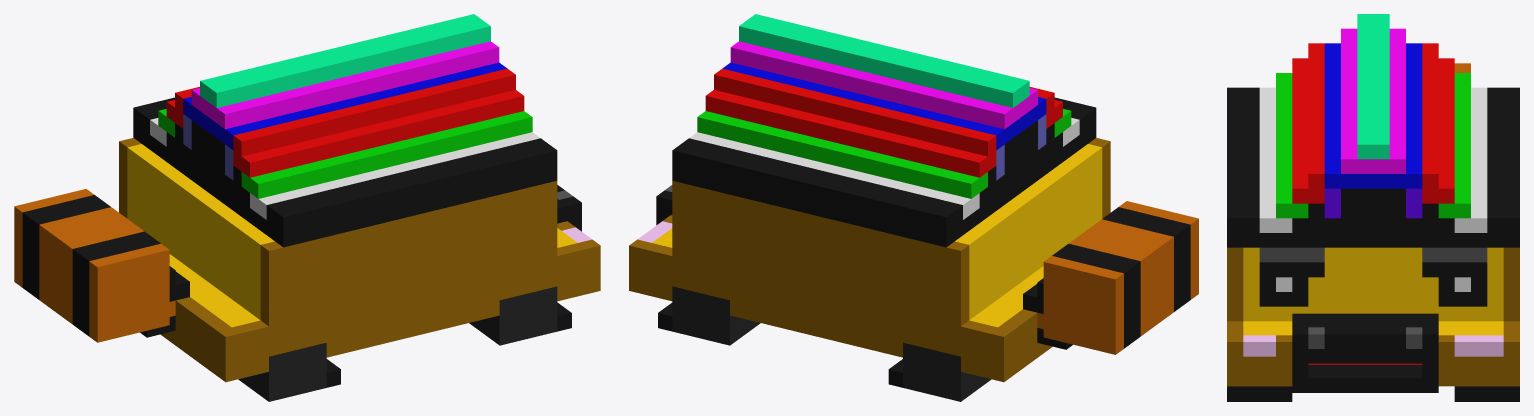
File: kamonohashi.obj
3 views of the same model, side by side, from view 1: azimuth 30°, elevation 25°; view 2: azimuth 150°, elevation 25°; view 3: azimuth 270°, elevation 25° (orthographic). The views are drawn at different scales.
Size of the model in its own units: 3.3 by 1.7 by 1.8.
Materials: 1 (1 with a texture image).
